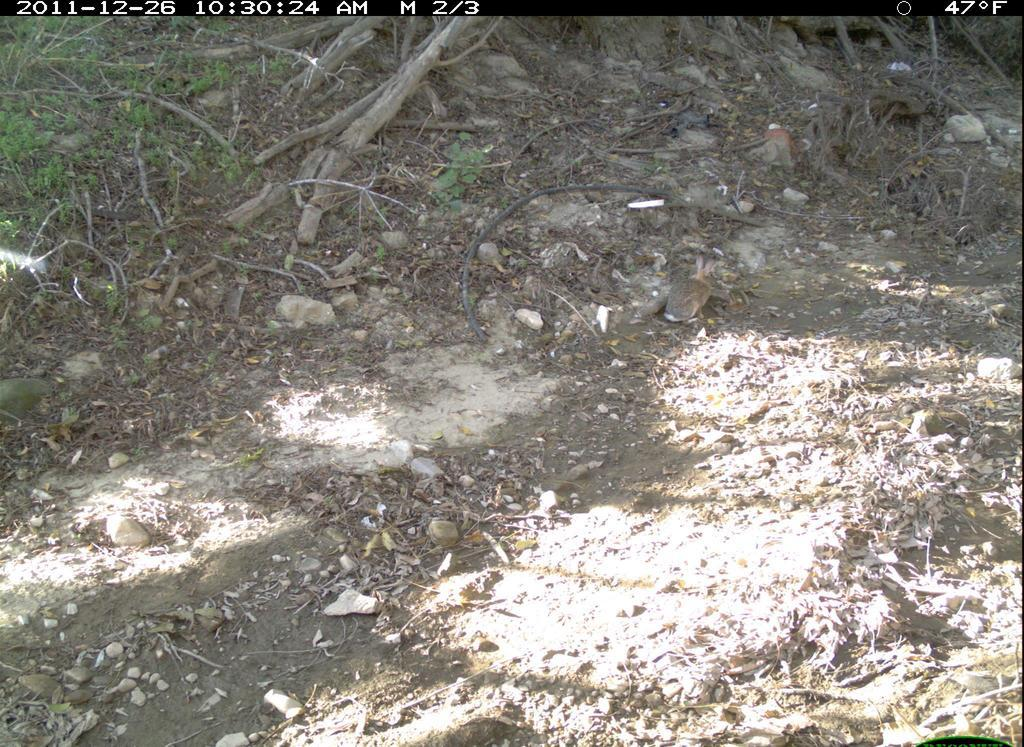rabbit: (652, 241, 737, 337)
